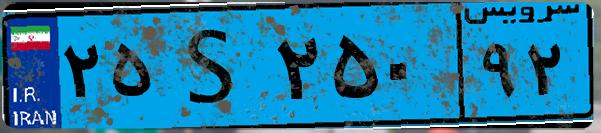0: (385, 28, 445, 110)
2: (270, 28, 330, 110), (57, 26, 110, 100), (525, 38, 570, 115)
5: (330, 28, 385, 110), (110, 28, 158, 98)
9: (475, 38, 525, 113)
S: (158, 12, 270, 120)
